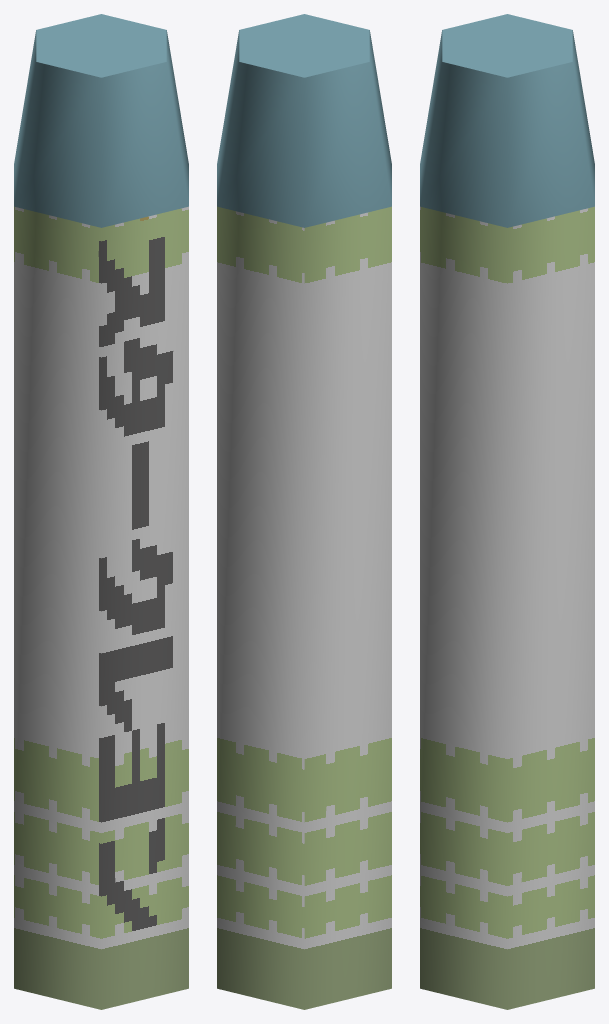
Rendered from 0332_Aqua_Crayon.glb.
The picture shows the model from 3 angles, left to right: view 1: azimuth 30°, elevation 25°; view 2: azimuth 150°, elevation 25°; view 3: azimuth 270°, elevation 25°; orthographic projection.
Parts seen in each view (by area): view 1: part_0; view 2: part_0; view 3: part_0.
Boxes of the visible parts, <box> form: part_0: <box>14,14,188,1009</box>; part_0: <box>217,14,391,1009</box>; part_0: <box>420,14,594,1009</box>.
Size of the model in its own units: 0.014 by 0.0705 by 0.0121.
1 material, 1 textured.
